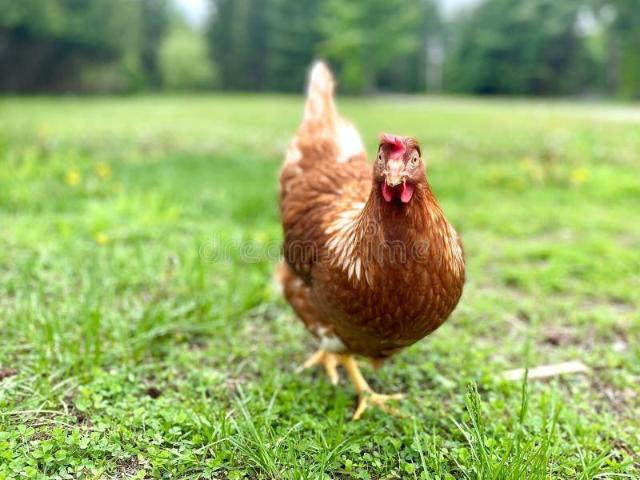Chicken: (279, 64, 467, 423)
